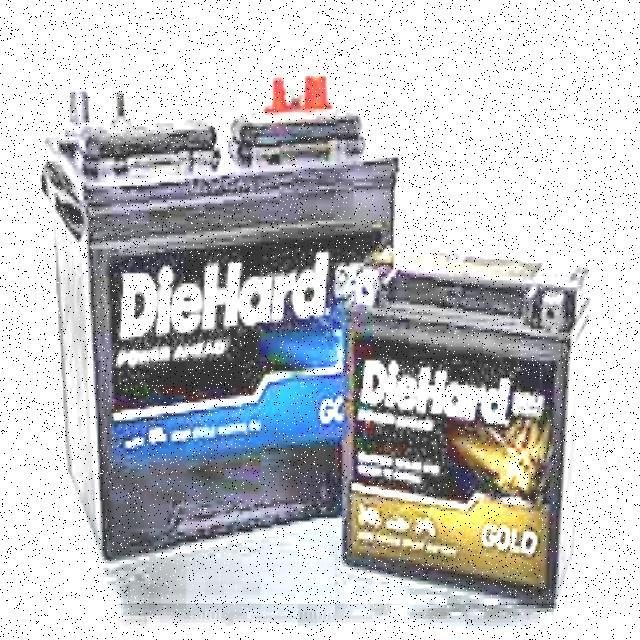B3: (41, 51, 580, 628)
